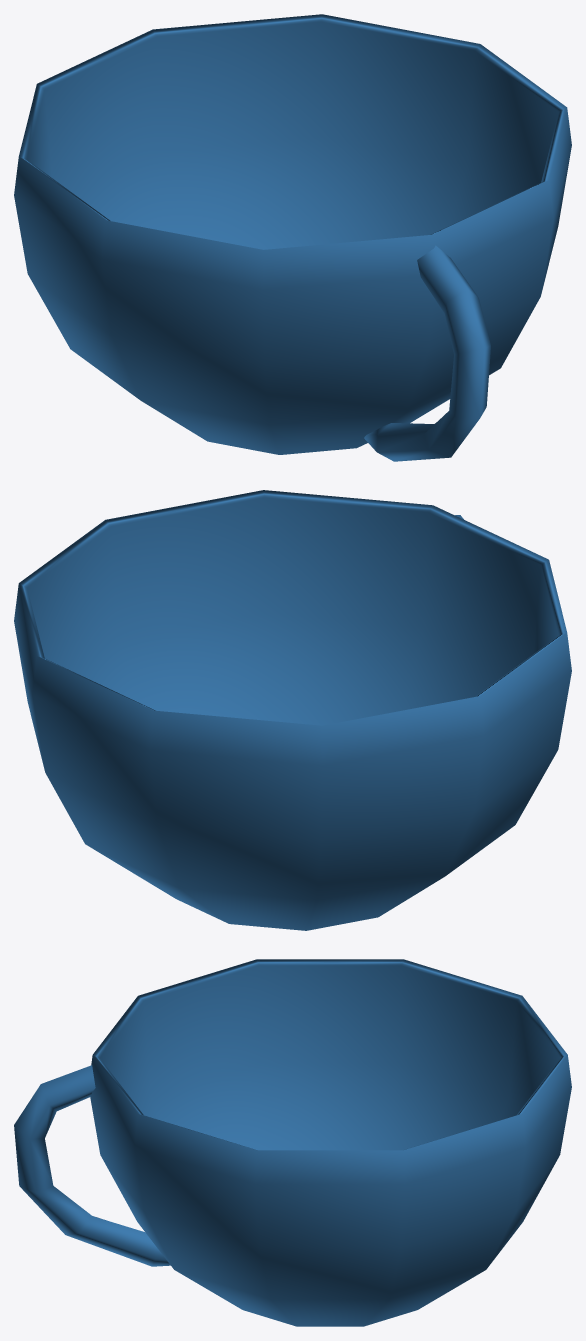
Rendered from taza01.fbx.
The picture shows the model from 3 angles, top to bottom: view 1: azimuth 30°, elevation 25°; view 2: azimuth 150°, elevation 25°; view 3: azimuth 270°, elevation 25°; orthographic projection. The views are drawn at different scales.
Visible parts, largest first — view 1: polySurface2631; view 2: polySurface2631; view 3: polySurface2631.
Part boxes in pixels (left/top/right/bottom): polySurface2631: left=14, top=14, right=571, bottom=461; polySurface2631: left=14, top=490, right=571, bottom=930; polySurface2631: left=14, top=959, right=571, bottom=1326.
Size of the model in its own units: 0.2036 by 0.1116 by 0.247.
